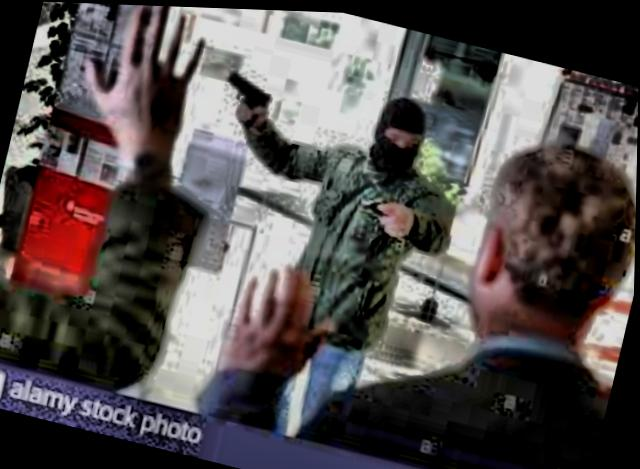pistol: (216, 64, 277, 124)
